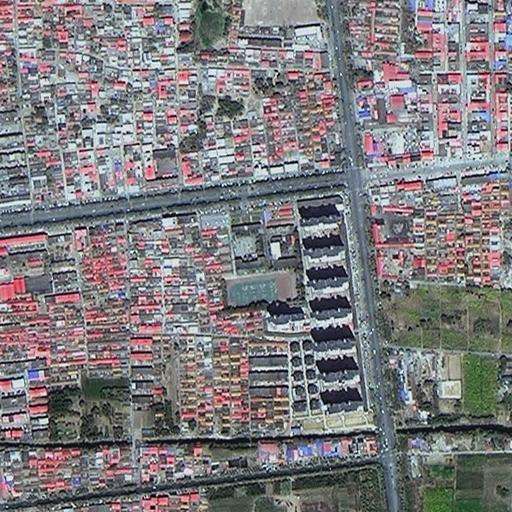school: (223, 223, 301, 314)
